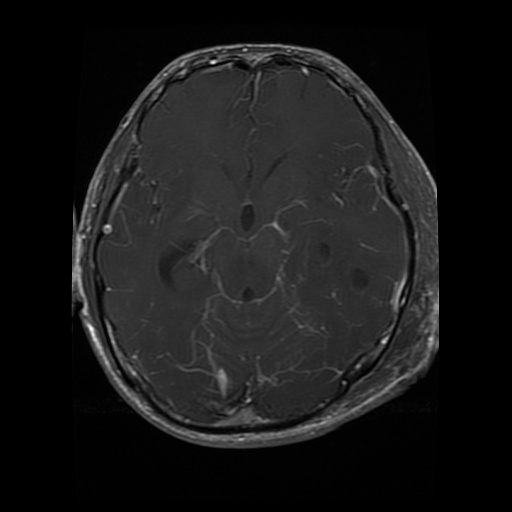glioma: (300, 226, 387, 311)
